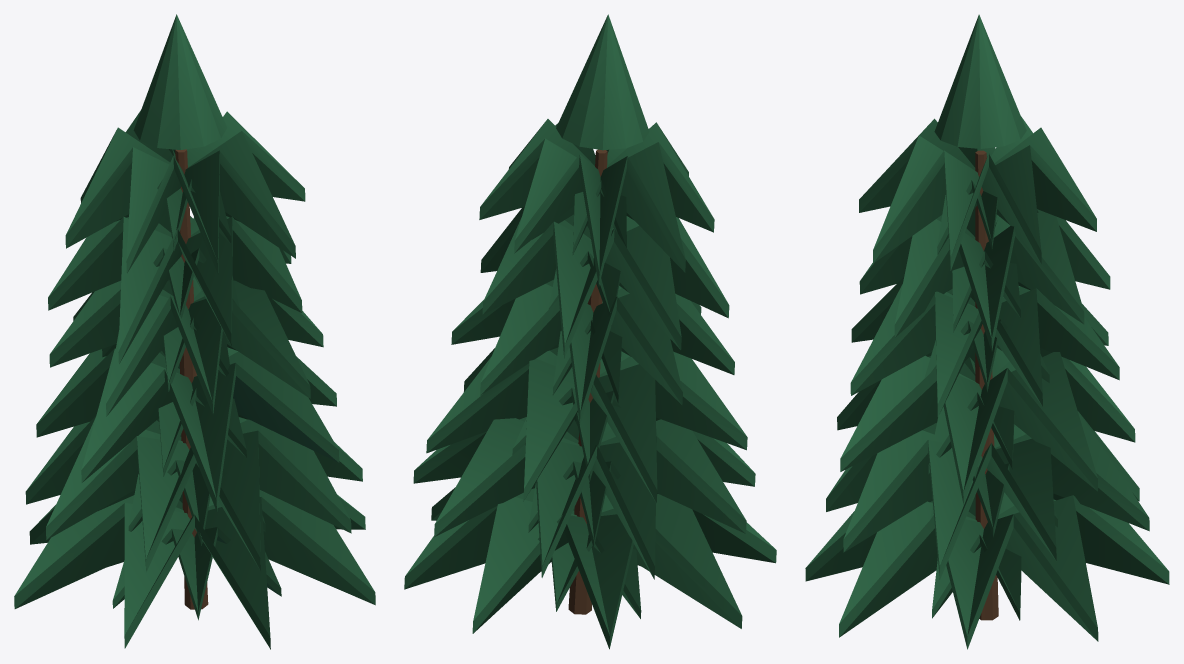
File: tree_pine_c_medium.glb
3 renders of one model, left to right at view 1: azimuth 30°, elevation 25°; view 2: azimuth 150°, elevation 25°; view 3: azimuth 270°, elevation 25°, orthographic.
Visible parts, largest first — view 1: Canopy, Trunk; view 2: Canopy, Trunk; view 3: Canopy, Trunk.
Part boxes in pixels (left/top/right/bottom): Canopy: left=14, top=14, right=375, bottom=649; Trunk: left=175, top=149, right=208, bottom=609; Canopy: left=404, top=14, right=776, bottom=649; Trunk: left=568, top=149, right=607, bottom=614; Canopy: left=805, top=14, right=1169, bottom=649; Trunk: left=975, top=150, right=998, bottom=620.
Bounding box in the file's own units: 6.53 × 11.3 × 6.3.
1 material, 1 textured.
